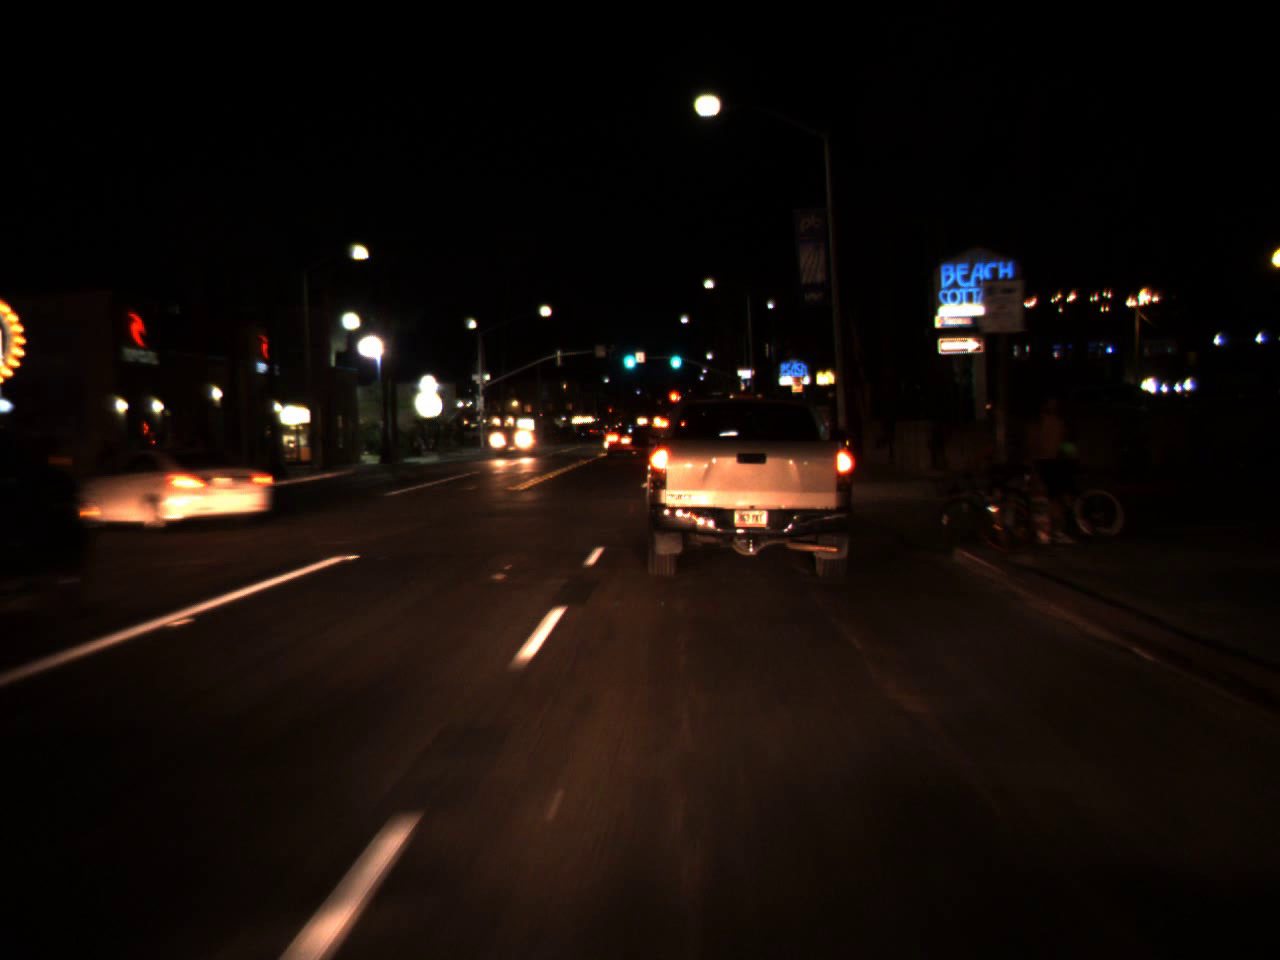go: (618, 338, 639, 374), (667, 340, 683, 373)
